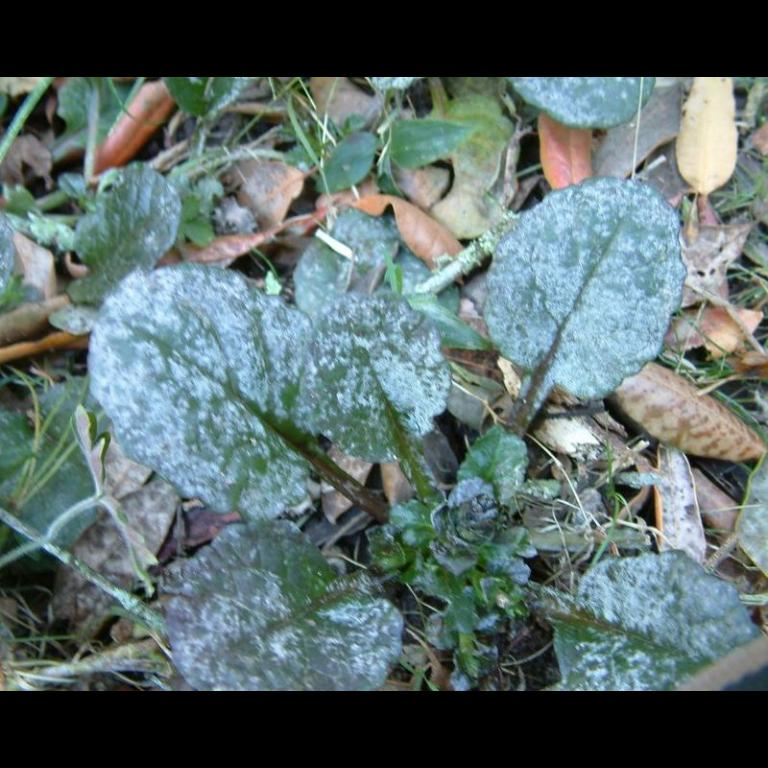powdery-mildew: (126, 299, 256, 459), (192, 574, 360, 682), (536, 214, 648, 348), (592, 569, 724, 661)
